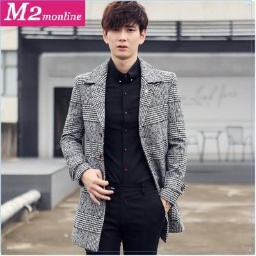face: (101, 1, 148, 59)
